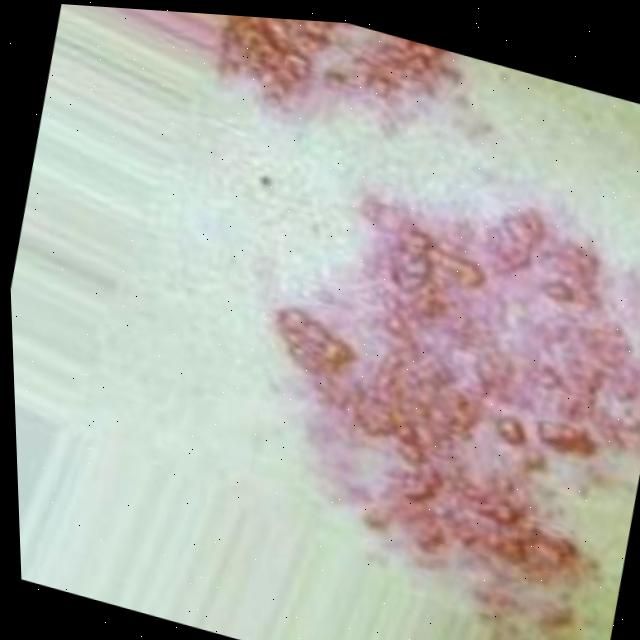Shingles: (210, 144, 640, 640), (194, 13, 465, 165)
